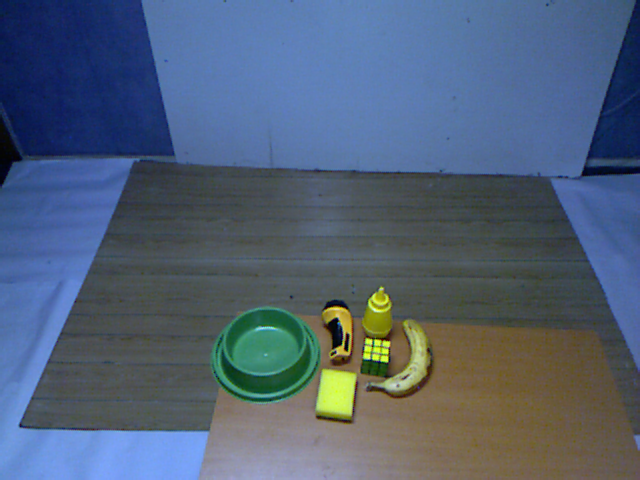cubix: (357, 333, 394, 379)
esponja: (309, 364, 360, 427)
linterna: (316, 295, 357, 365)
mostaza: (361, 285, 400, 345)
platano: (354, 310, 438, 400)
platoperro: (208, 303, 323, 406)
